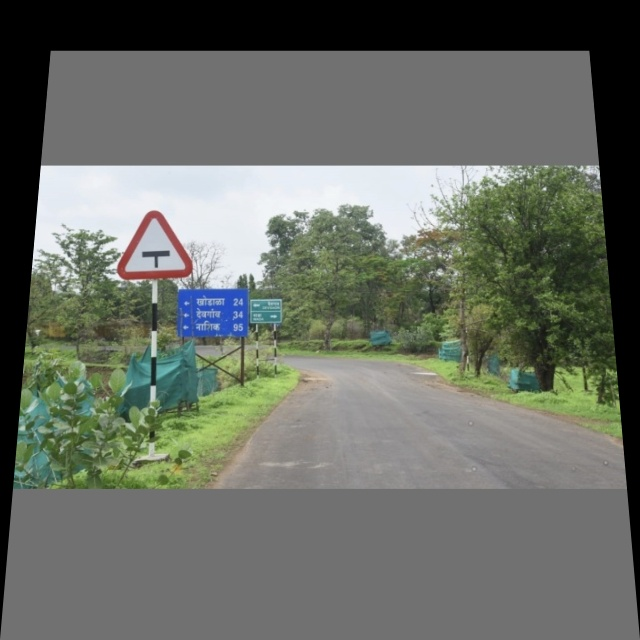T_Intersection: (110, 202, 203, 284)
